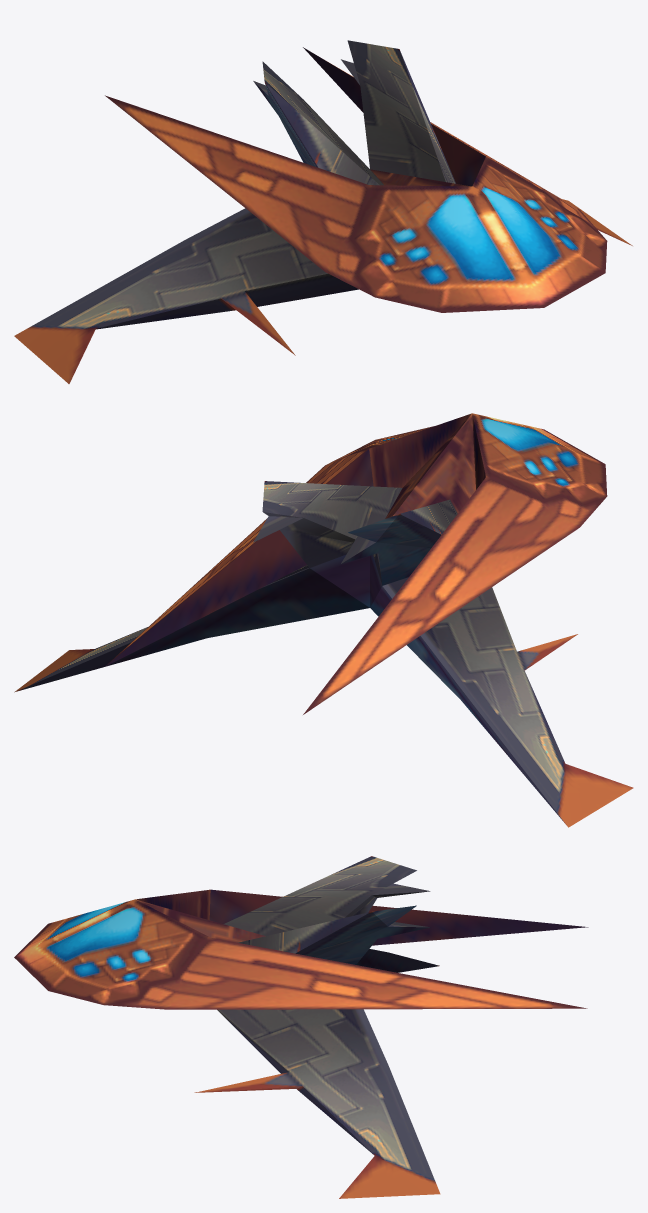
File: enemy07.FBX
3 views of the same model, one above another, from view 1: azimuth 30°, elevation 25°; view 2: azimuth 150°, elevation 25°; view 3: azimuth 270°, elevation 25° (orthographic). The views are drawn at different scales.
Visible parts, largest first — view 1: enemy07; view 2: enemy07; view 3: enemy07.
Boxes of the visible parts, x1,y1,x2,y2 form: enemy07: (14,40,632,383); enemy07: (14,413,633,827); enemy07: (14,856,588,1198).
Size of the model in its own units: 2291 by 914 by 2582.
